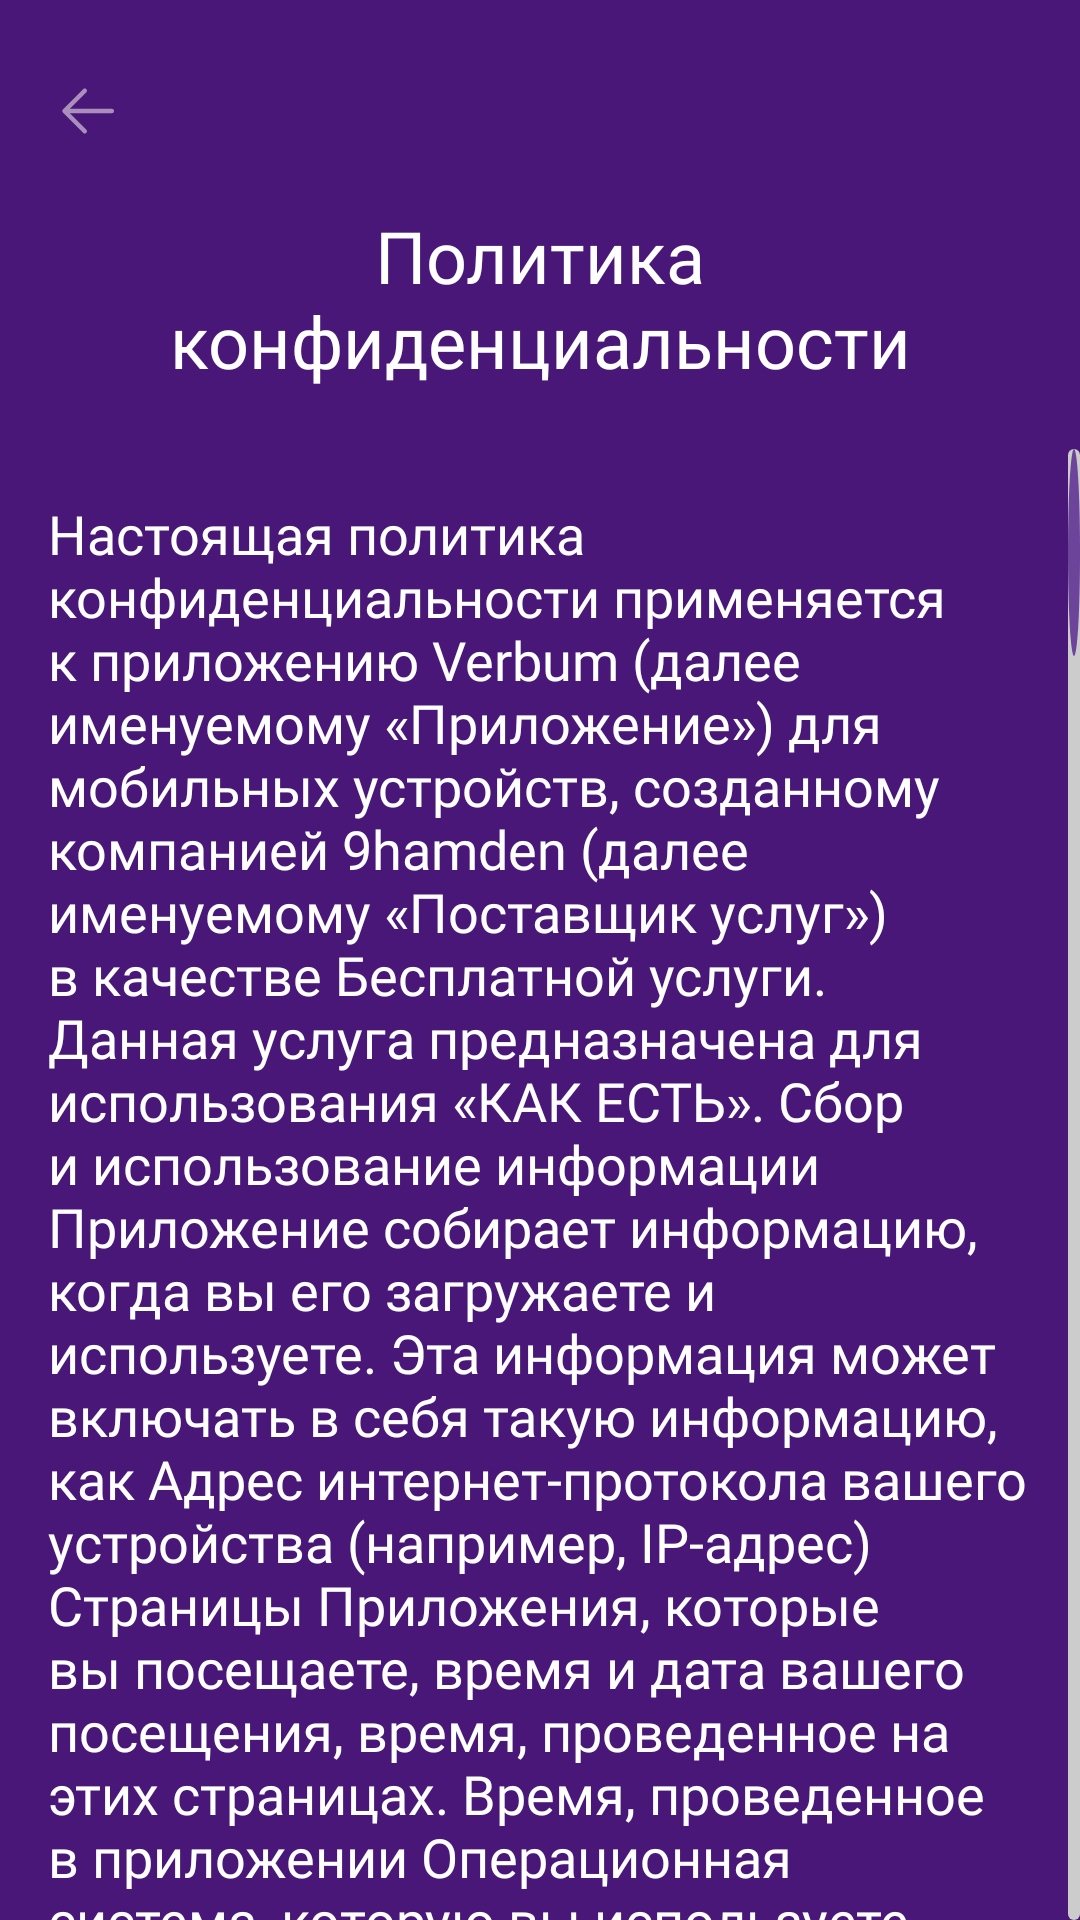

Icons on this 1080×1920 Android screen, each with the point to tap as point (x, y):
back: point (88, 111)
